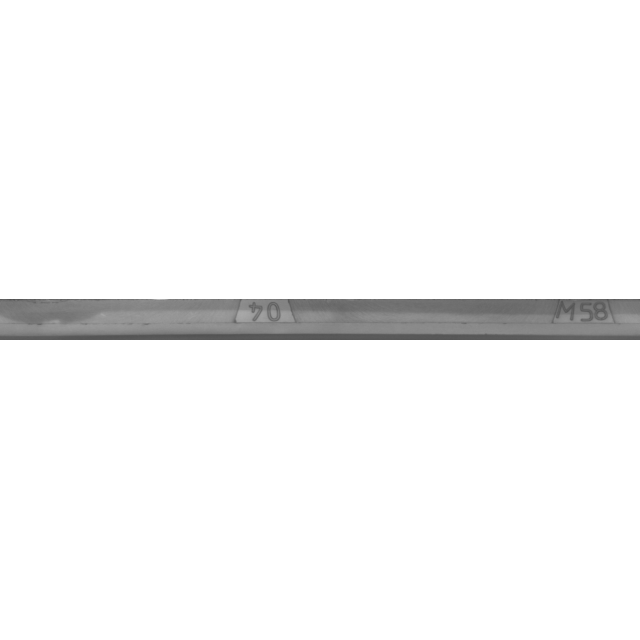mohao: (494, 270, 640, 370)
xuehao: (160, 270, 360, 370)
